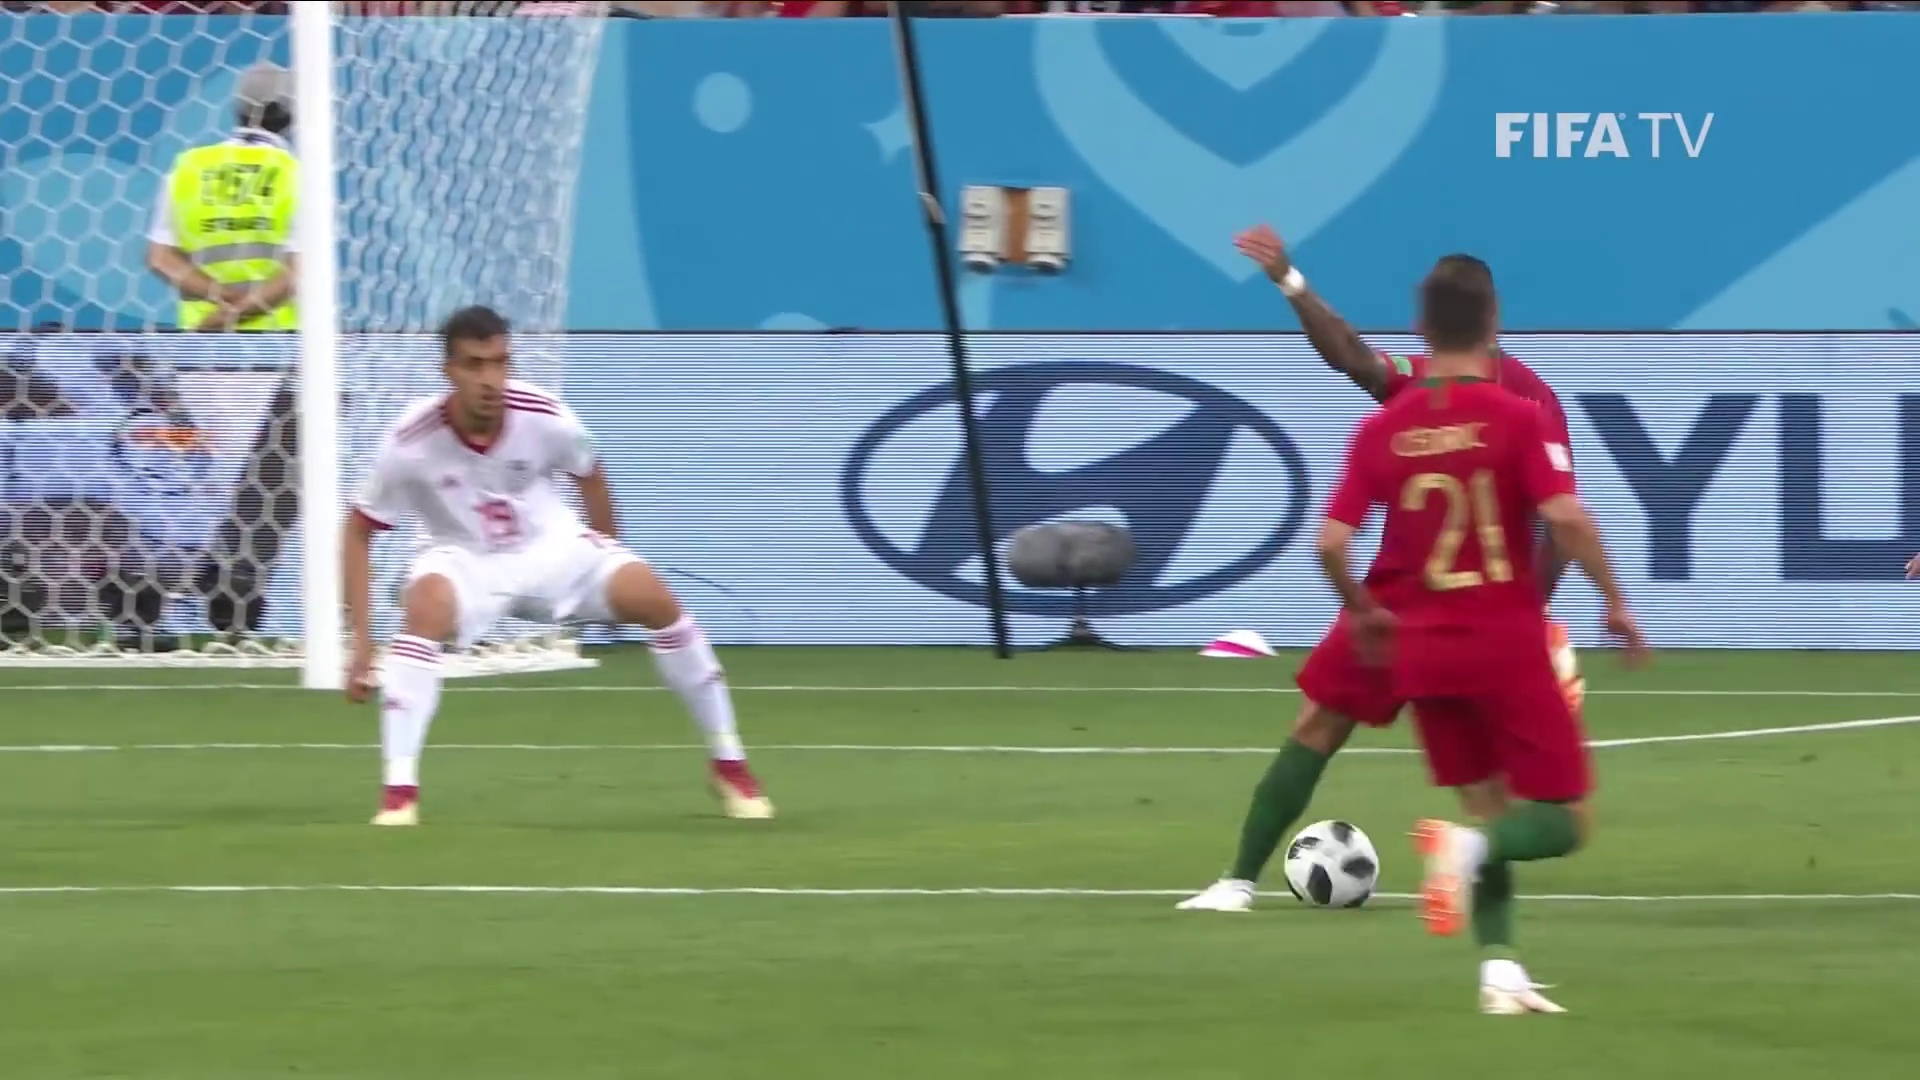ball: (1288, 815, 1376, 907)
person: (330, 307, 776, 830), (1351, 276, 1632, 1018)
